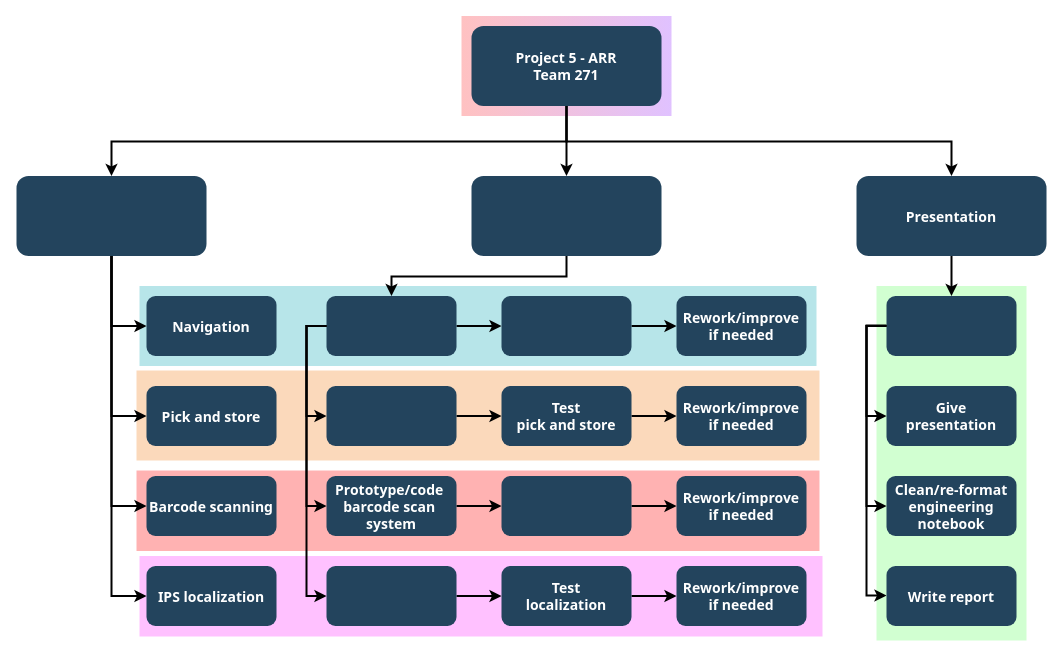
Image size: 1063x657. Some labels were removed from this diagram. Here are the shapes that lost their labels. From the top down, the box of each, then its label:
(16, 176, 206, 256): Researching
(471, 176, 661, 256): Implementing and Testing
(326, 296, 456, 356): Prototype/code navigation system
(501, 296, 631, 356): Test navigation
(886, 296, 1016, 356): Design Powerpoint
(326, 386, 456, 446): Prototype/code pick and store system
(501, 476, 631, 536): Test barcode scan
(326, 566, 456, 626): Prototype/code localization system/algorithm
